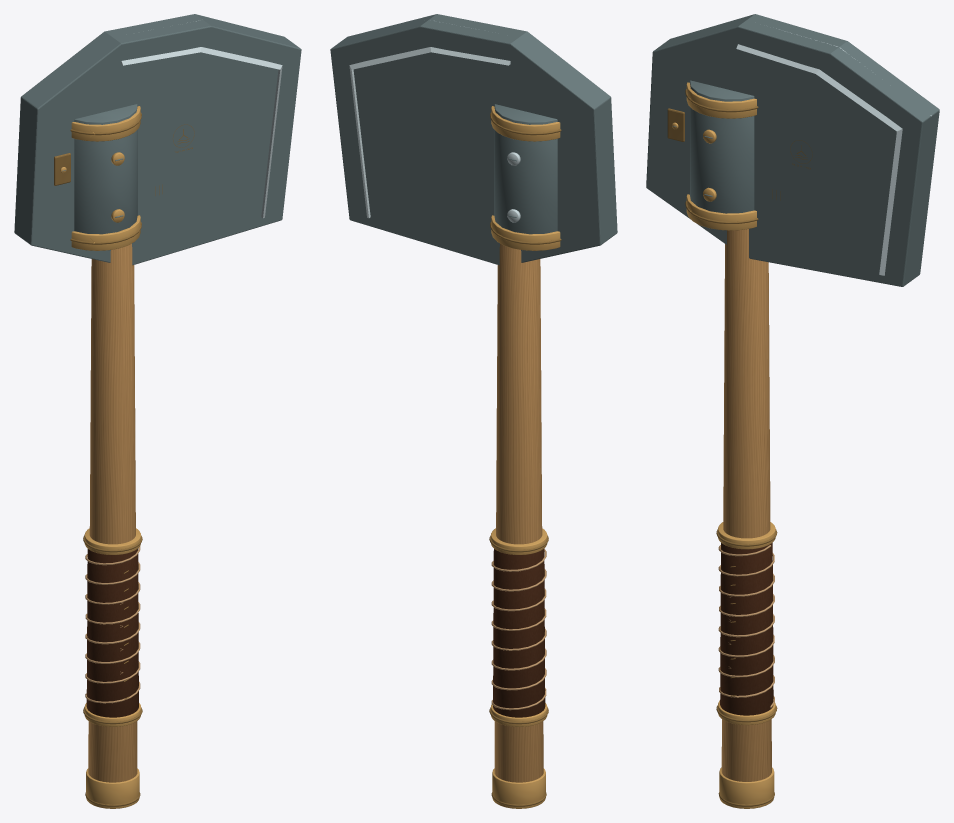
Rendered from axe.glb.
3 renders of one model, left to right at view 1: azimuth 30°, elevation 25°; view 2: azimuth 150°, elevation 25°; view 3: azimuth 330°, elevation 25°, orthographic. The views are drawn at different scales.
Visible parts, largest first — view 1: Render_axe; view 2: Render_axe; view 3: Render_axe.
Part boxes in pixels (<box>): Render_axe: <box>14,14,301,808</box>; Render_axe: <box>330,14,617,808</box>; Render_axe: <box>646,14,939,808</box>.
Size of the model in its own units: 0.4535 by 1.22 by 0.1298.
Materials: 8 (8 with a texture image).
